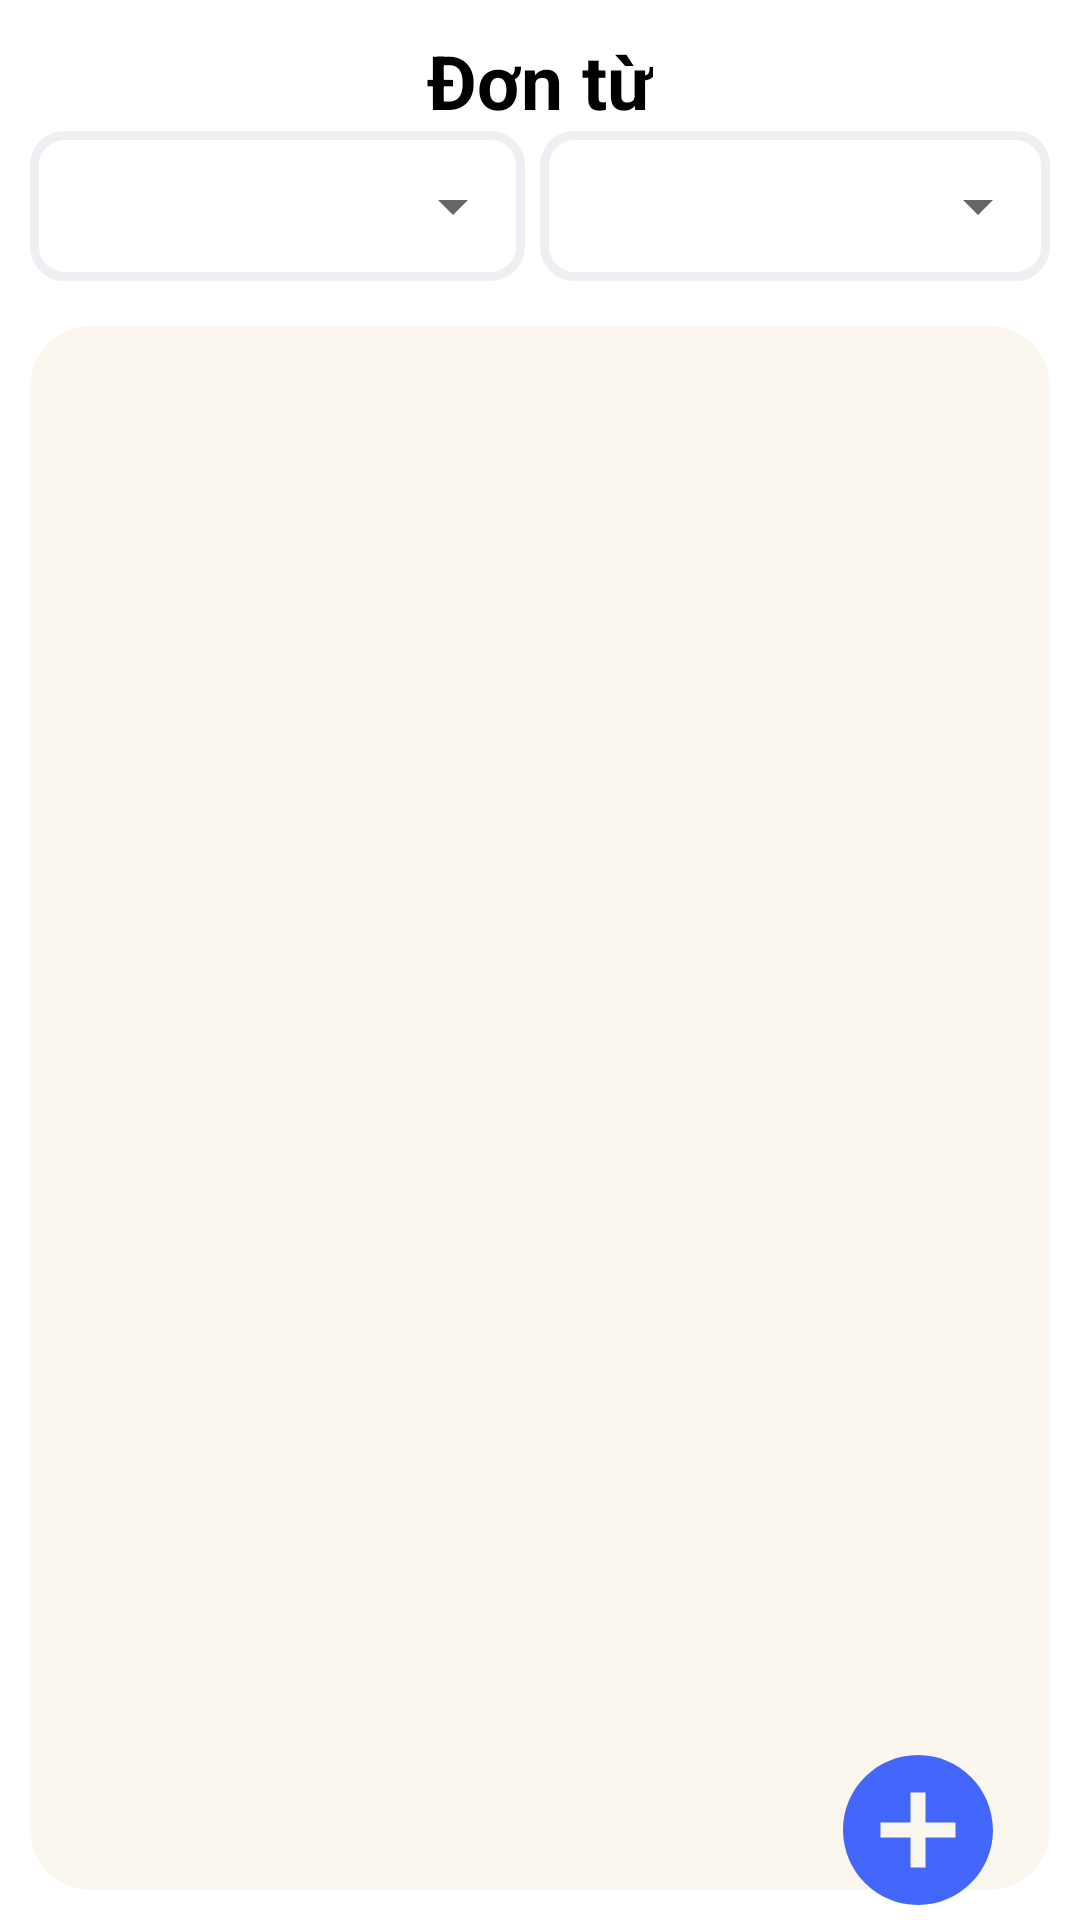

Point at icon controls on the screen. Image size 1080*1920, points as (x=x, y=y).
add circle: (x=918, y=1830)
